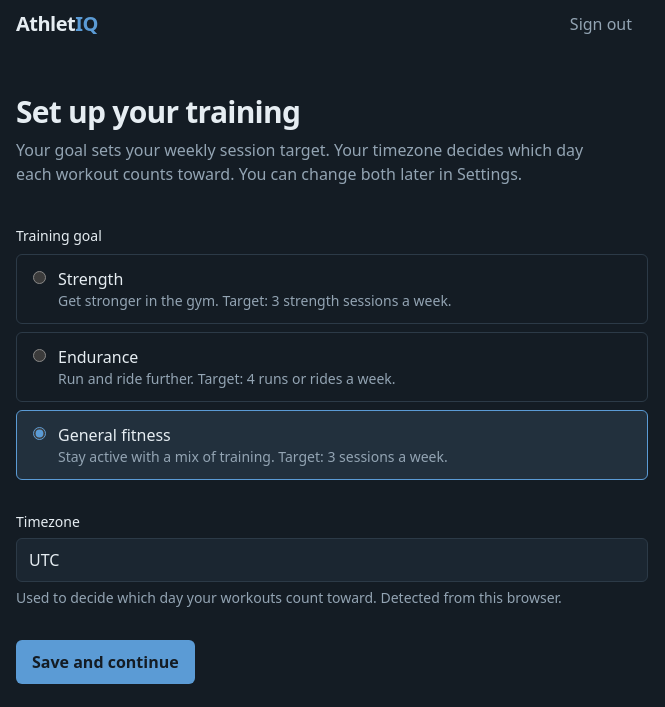
Scenario: OnboardingPage › shows other failures as a form error
The width and height of the screenshot is (665, 707).
Check: the heading "Set up your training" is shown, box [16,91,300,132]
Click the button "Save and continue".
click(105, 662)  # box [16,640,195,684]
(page scrolled)
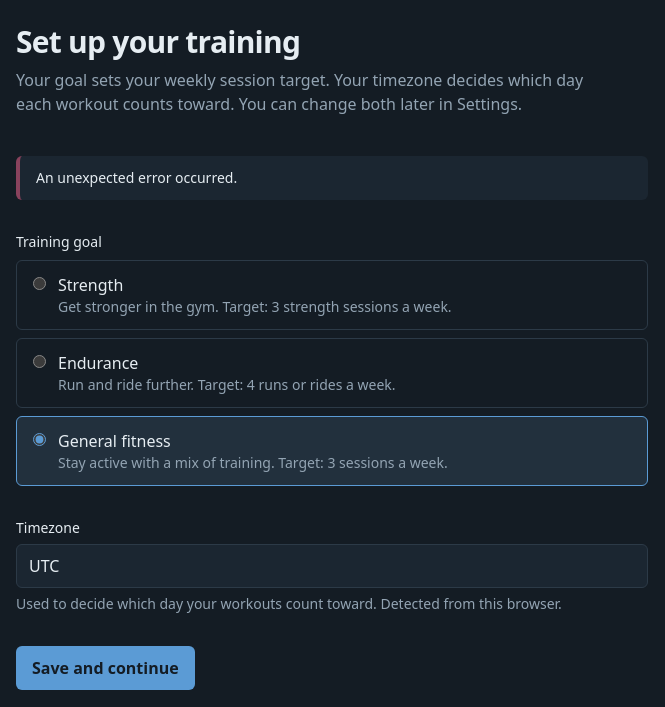
Check: the message reads "An unexpected error occurred.", box [36,168,237,187]
